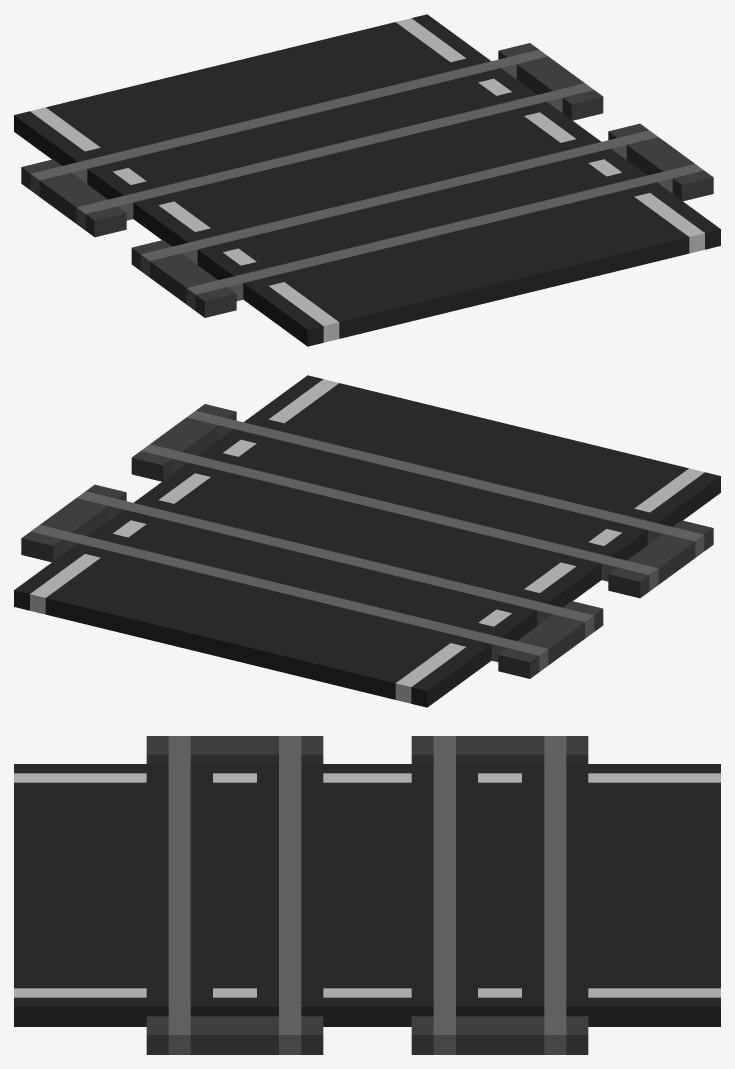
Rendered from track-road-intersection-double-2.gltf.
The picture shows the model from 3 angles, top to bottom: view 1: azimuth 30°, elevation 25°; view 2: azimuth 150°, elevation 25°; view 3: azimuth 270°, elevation 25°; orthographic projection. The views are drawn at different scales.
Parts seen in each view (by area): view 1: track-road-intersection-double-2_model; view 2: track-road-intersection-double-2_model; view 3: track-road-intersection-double-2_model.
Part boxes in pixels (x1,y1,x2,y2): track-road-intersection-double-2_model: [14, 14, 720, 346]; track-road-intersection-double-2_model: [14, 375, 720, 707]; track-road-intersection-double-2_model: [14, 736, 720, 1054].
Size of the model in its own units: 3.2 by 0.1 by 3.2.
1 material, 1 textured.
